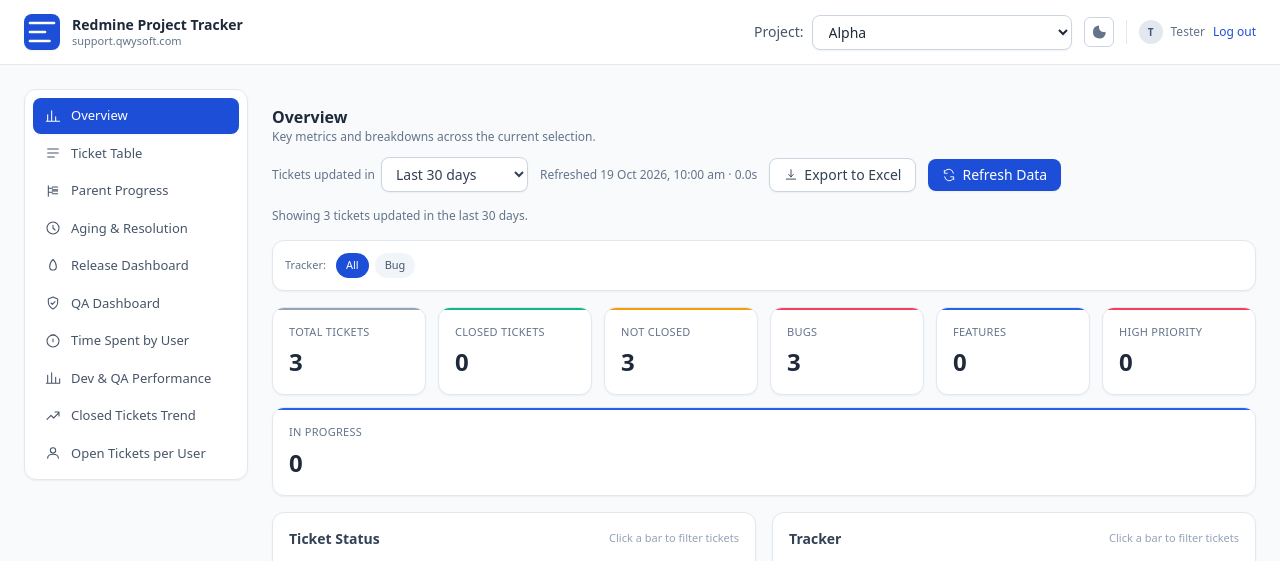
App: the load window › loads an exact date range once Apply is clicked
Expected: the text "Showing 3 tickets updated in the last 30 days." is shown, [272,207,528,224]
Select "Custom range…" in the dropdown labelled "Tickets updated in" at (454, 174), box [381,157,528,192]
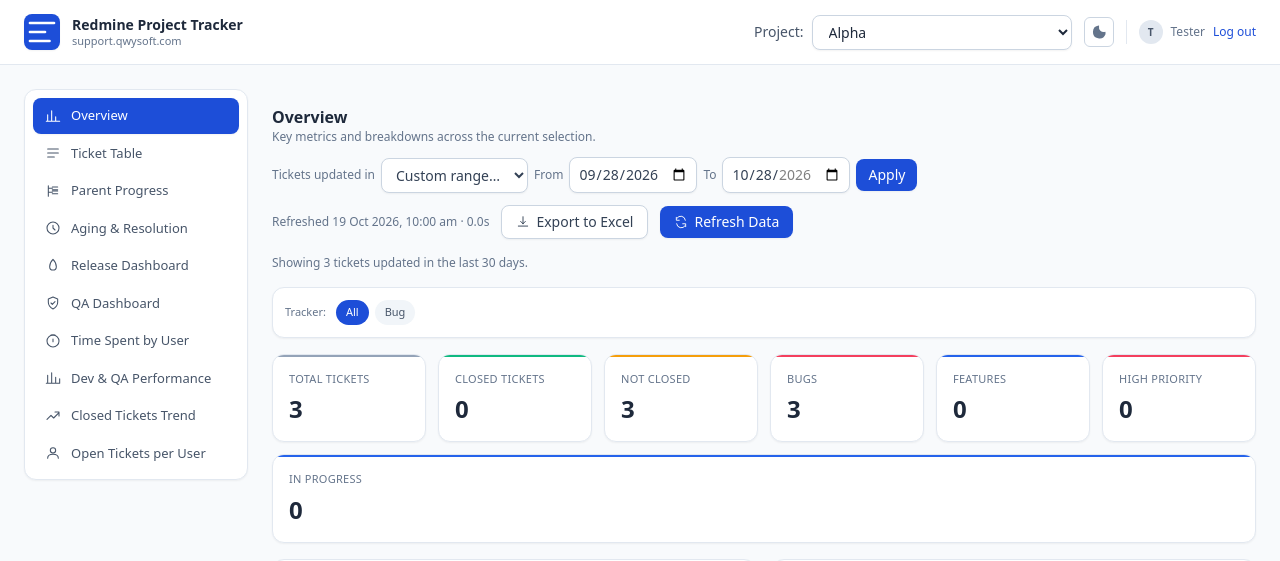
Type "2026-01-01" into the date field labelled "From" at (633, 175), box [569,157,697,193]
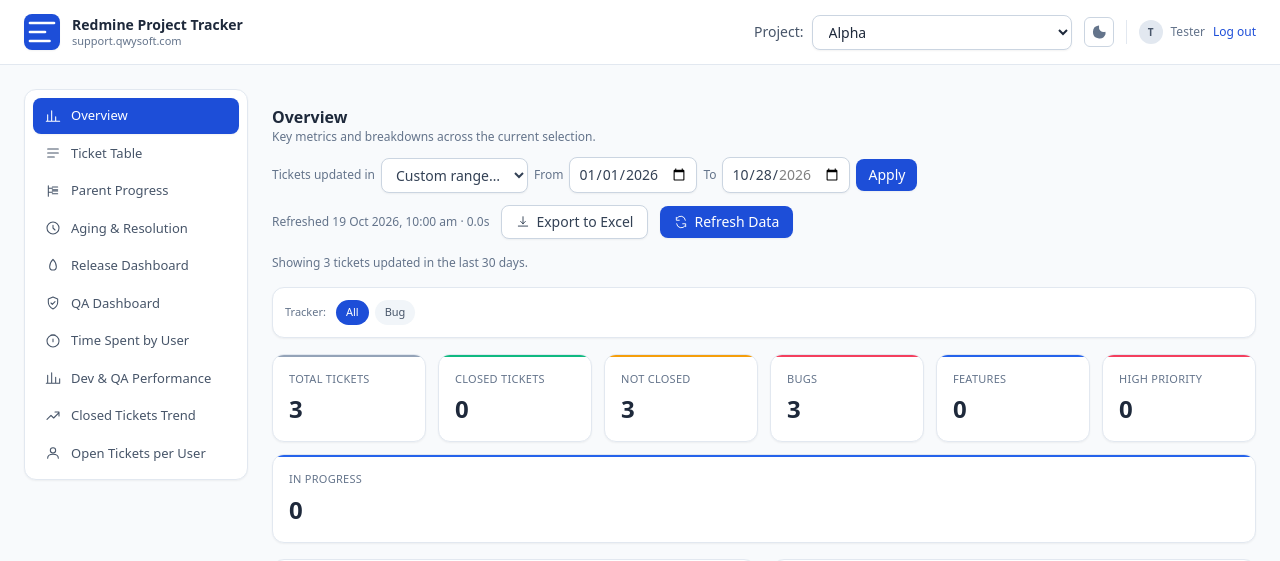
Type "2026-03-31" into the date field labelled "To" at (786, 175), box [722,157,850,193]
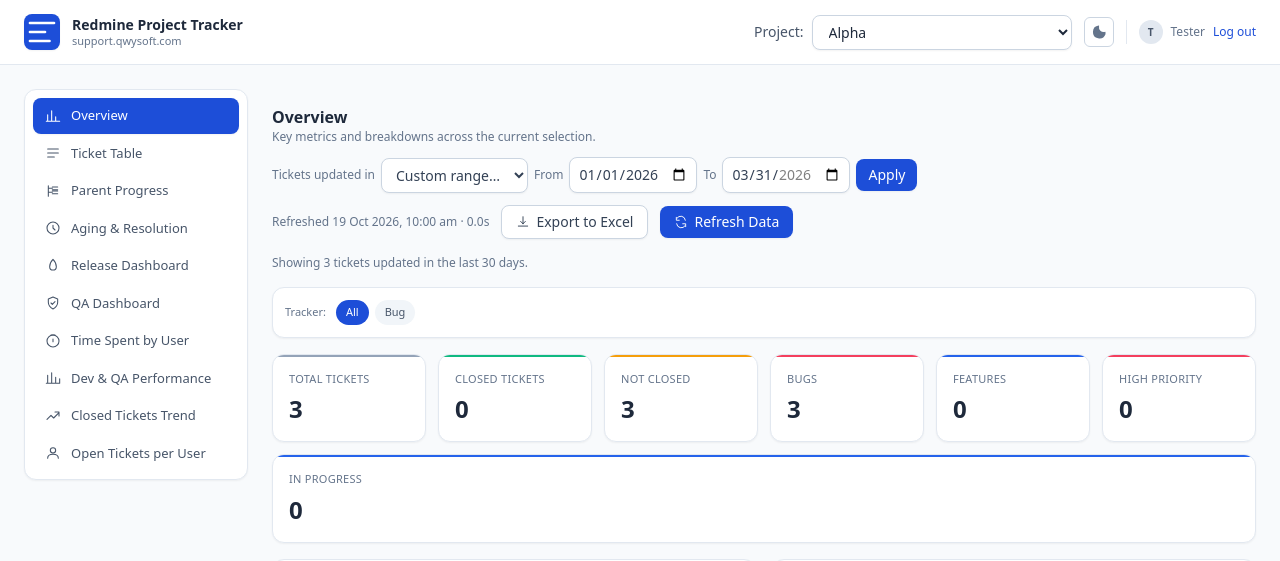
Click the button "Apply" at (887, 175), box [856,159,917,191]
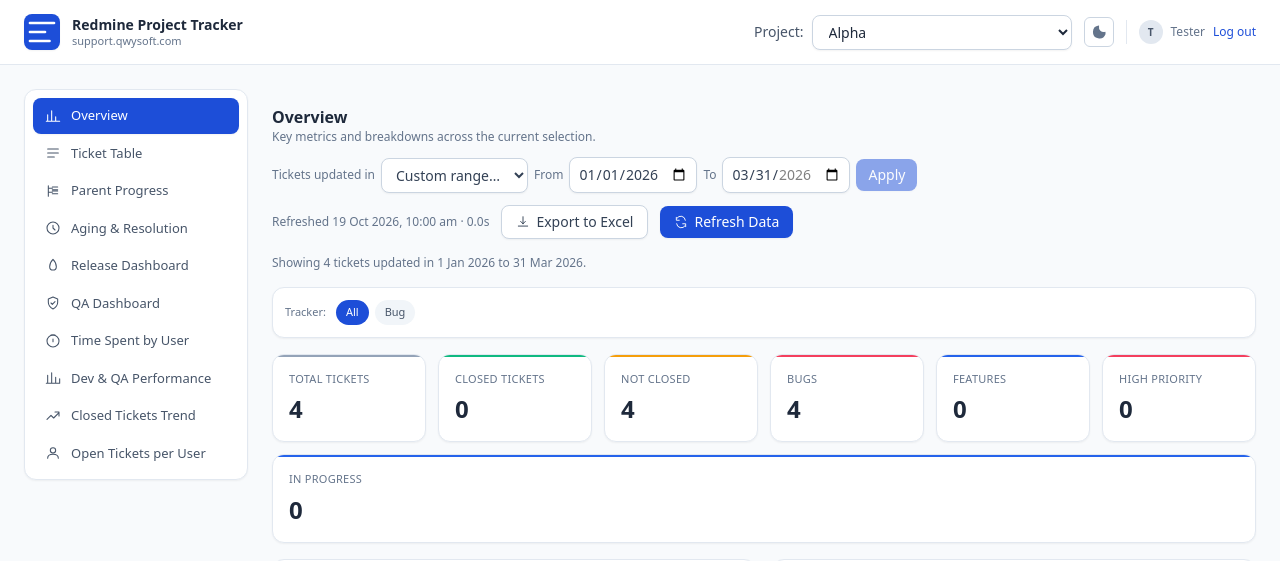
Result: the text "Showing 4 tickets updated in 1 Jan 2026 to 31 Mar 2026." is shown at [272,254,586,271]
